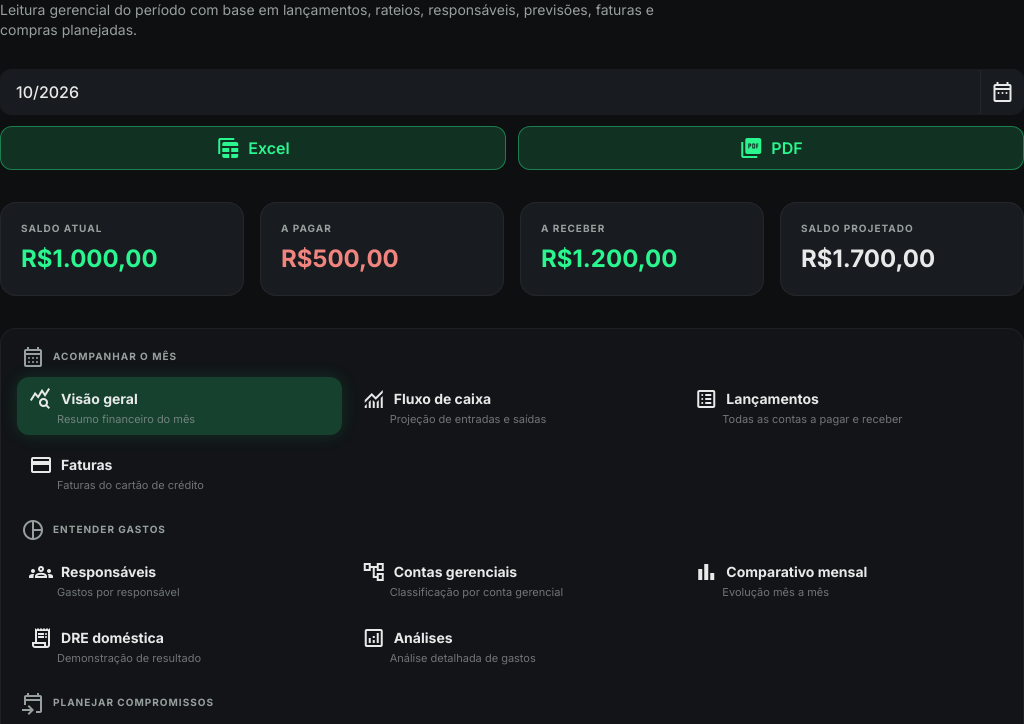
Test: RelatoriosPage › renders contas-gerenciais tab empty state when no itens returned
Expected: the text "Leitura gerencial" is shown, 0,1 -> 654,38
Click the button "Contas gerenciais Classificação por conta gerencial" at [512, 579], box 350,550 -> 674,608
(page scrolled)
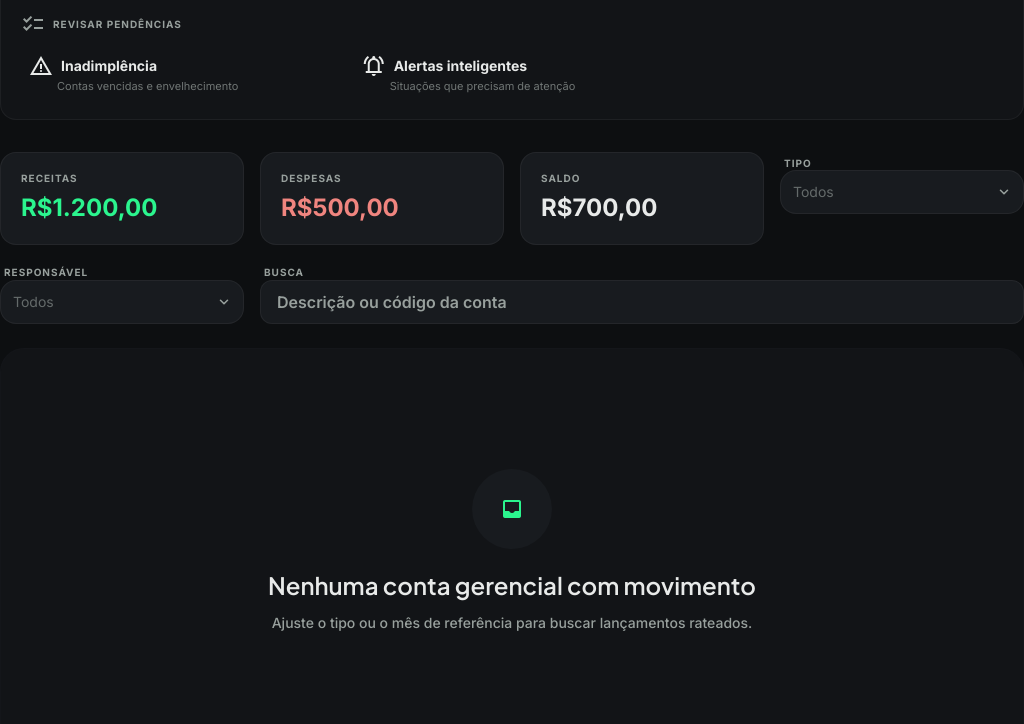
Result: the heading "Nenhuma conta gerencial com movimento" is shown at 268,569 -> 756,601
